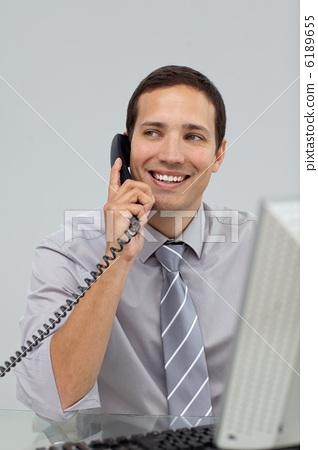talk: (99, 114, 216, 264)
